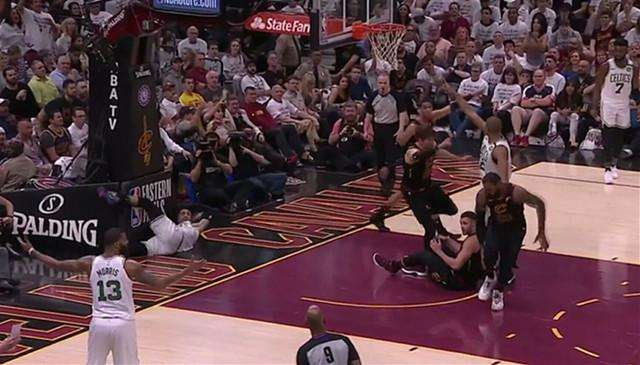10+: (1, 1, 640, 361)
down: (374, 207, 492, 290)
